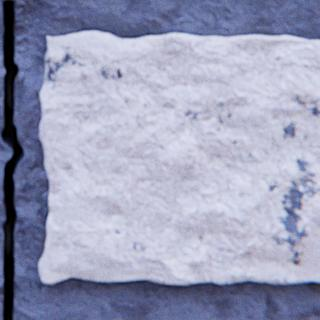brick: (39, 31, 319, 283)
crack: (0, 0, 24, 319)
